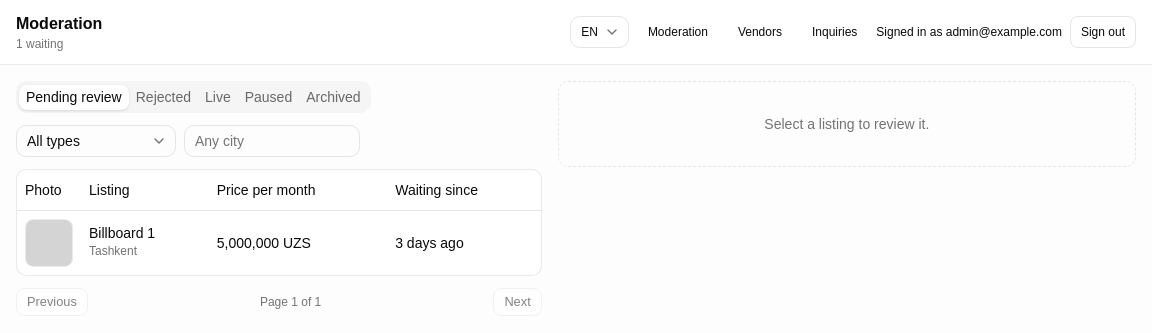
Test: tabs and filters › an empty non-pending tab uses the filtered wording, not the first-run prompt
expect the link "Billboard 1" is shown: met, box [89,224,155,240]
Click the tab "Archived" at (333, 97), box [299,84,368,110]
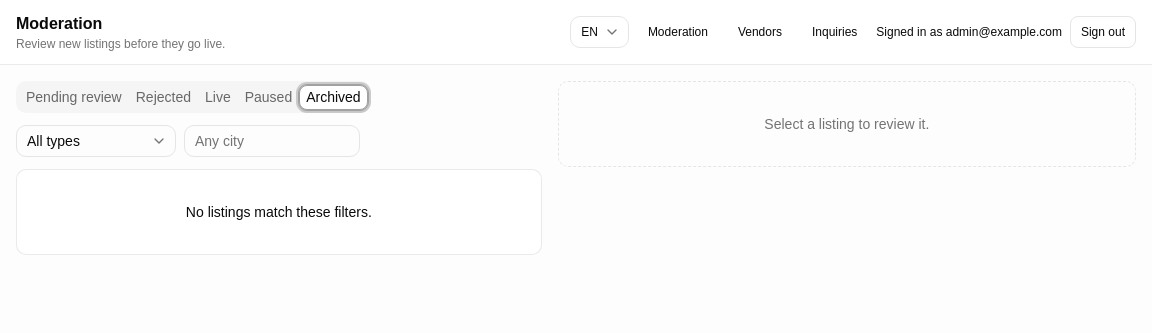
expect the text "No listings match these filters." is shown: met, box [186,204,372,220]
